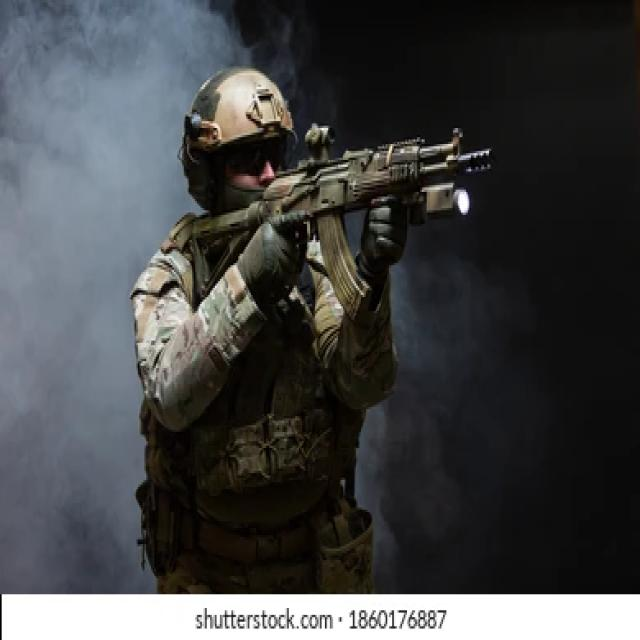soldier: (133, 51, 500, 597)
